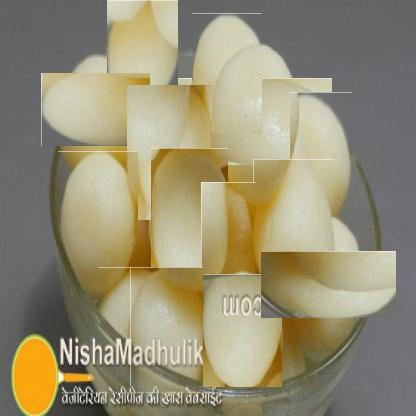rasgulla: (194, 61, 315, 183), (253, 159, 334, 318), (126, 84, 212, 220), (58, 151, 138, 294), (150, 148, 228, 289), (278, 234, 379, 336), (202, 274, 282, 387), (130, 267, 203, 386), (192, 13, 262, 134), (50, 64, 141, 155), (106, 0, 178, 105), (290, 92, 352, 213), (201, 182, 256, 297), (98, 267, 150, 338)
